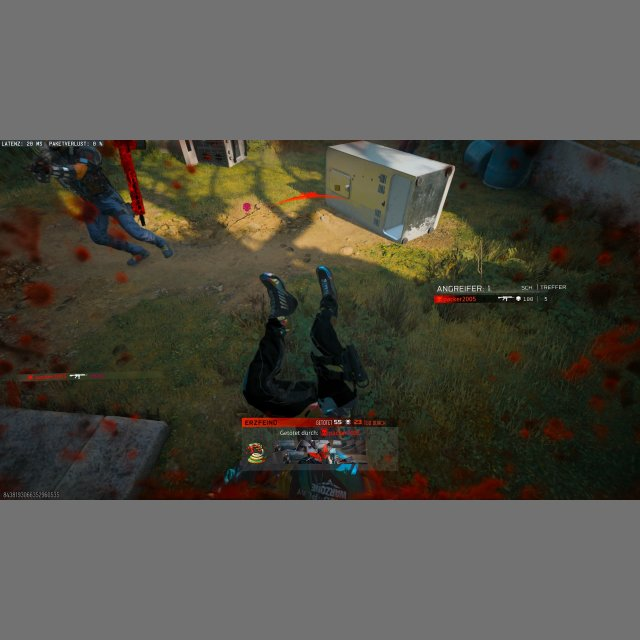player: (24, 146, 173, 264), (373, 209, 381, 226)
